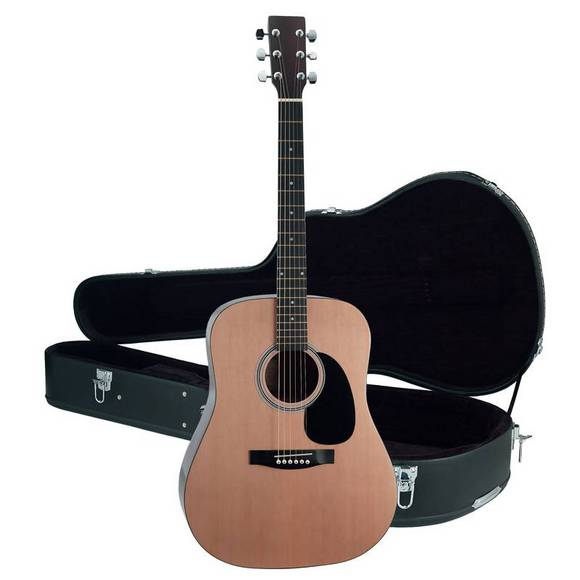guitar: (180, 15, 398, 570)
